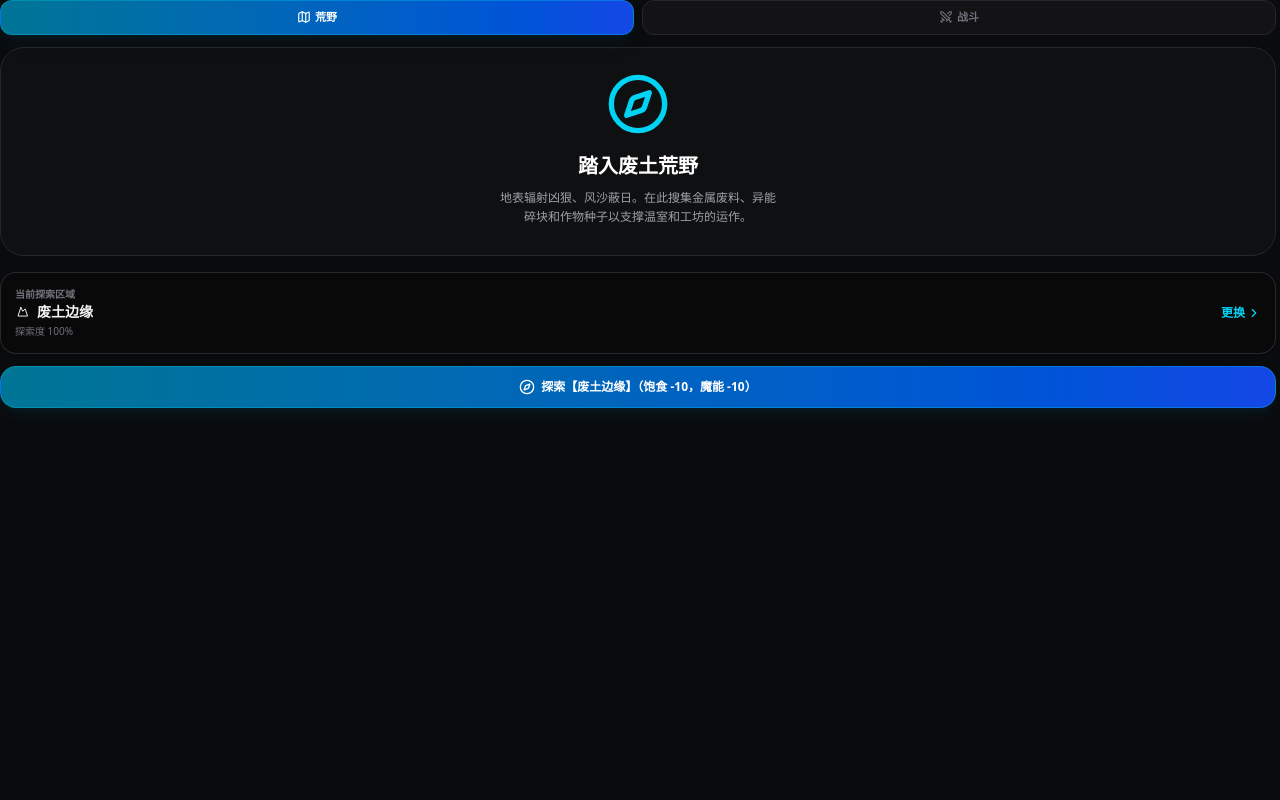
Test: WildernessTab Component › switches to combat mode and starts an auto battle in the first zone
//  切换到战斗模式
Click the button "战斗" at (959, 17), box x1=642 y1=0 x2=1276 y2=34
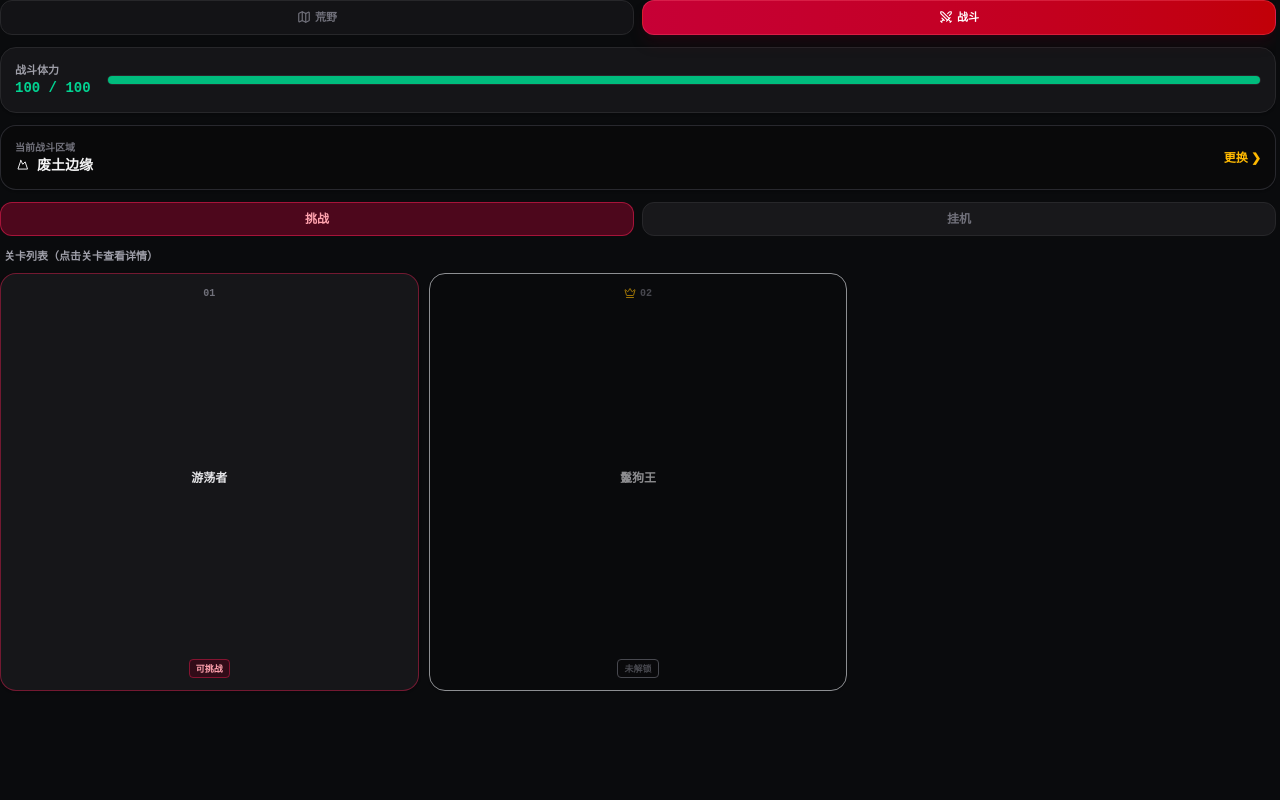
Expected: the text "废土边缘" is shown, x1=15 y1=155 x2=93 y2=175
Expected: the text "战斗体力" is shown, x1=15 y1=62 x2=59 y2=76
Click the element with test id "level-card-wasteland_entrance_1" at (209, 482), box x1=0 y1=272 x2=419 y2=691
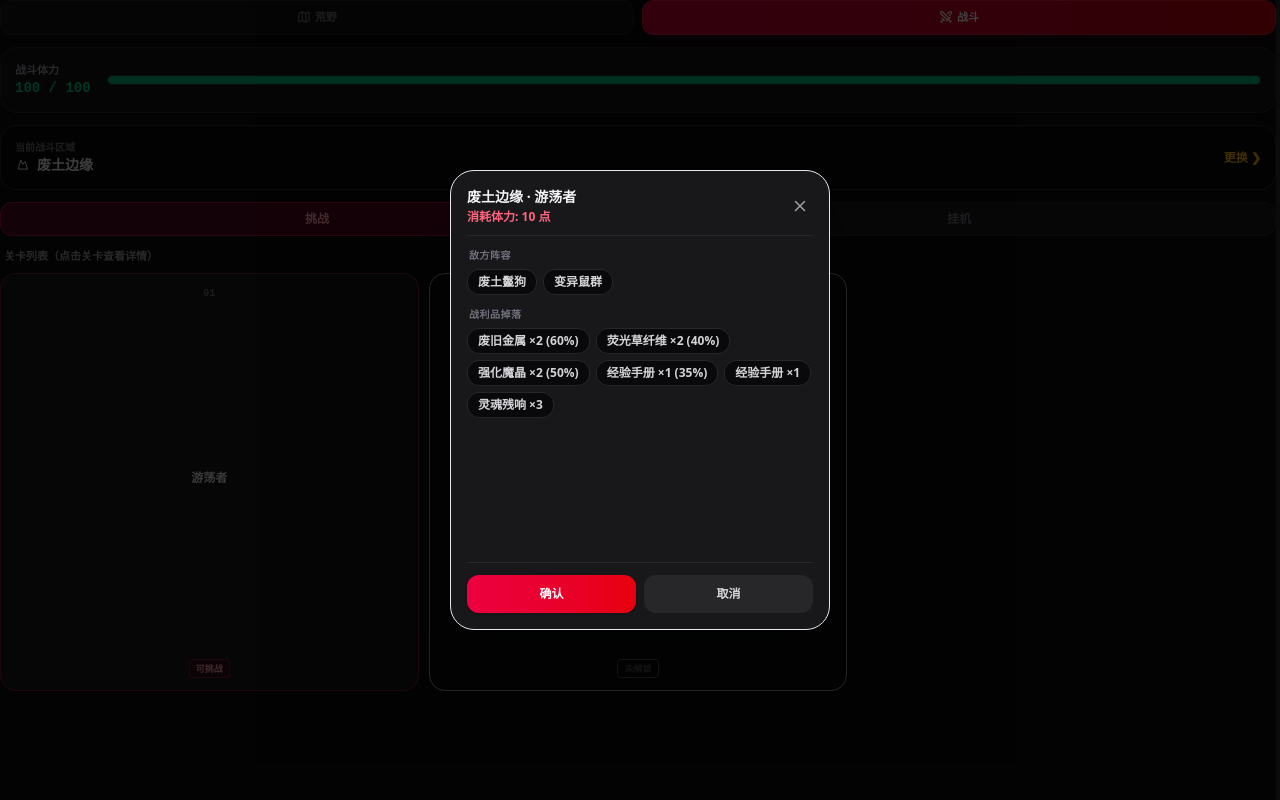
Expected: the element with test id "level-detail-modal" is shown, x1=450 y1=170 x2=830 y2=630
// 点击【确认】开战 → 打开专属全屏战斗模态 BattleModal
Click the button with test id "level-detail-confirm-btn" at (552, 594), box x1=467 y1=575 x2=636 y2=613
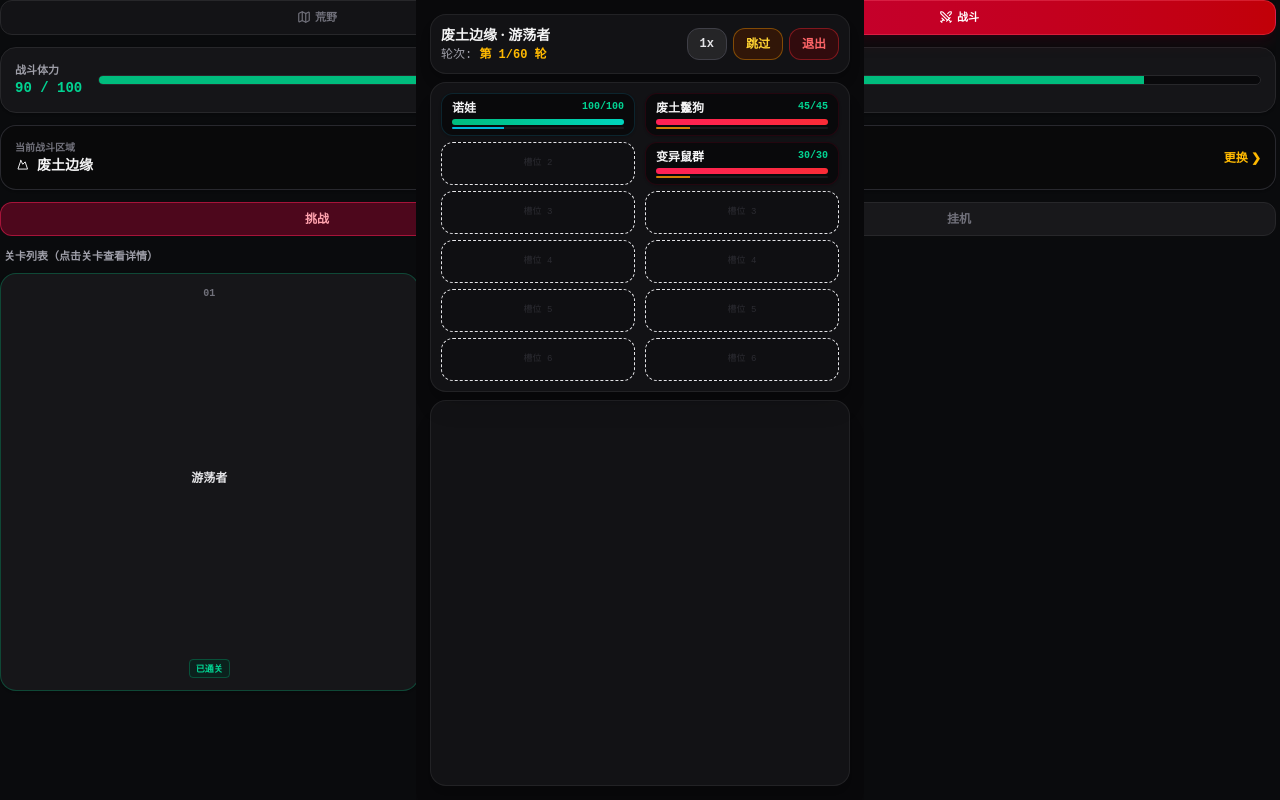
Expected: the element with test id "dedicated-battle-modal" is shown, x1=416 y1=0 x2=864 y2=799
// 跳过直达结算并验证战果与体力扣减
Click the button with test id "skip-battle-btn" at (758, 44), box x1=733 y1=28 x2=783 y2=60
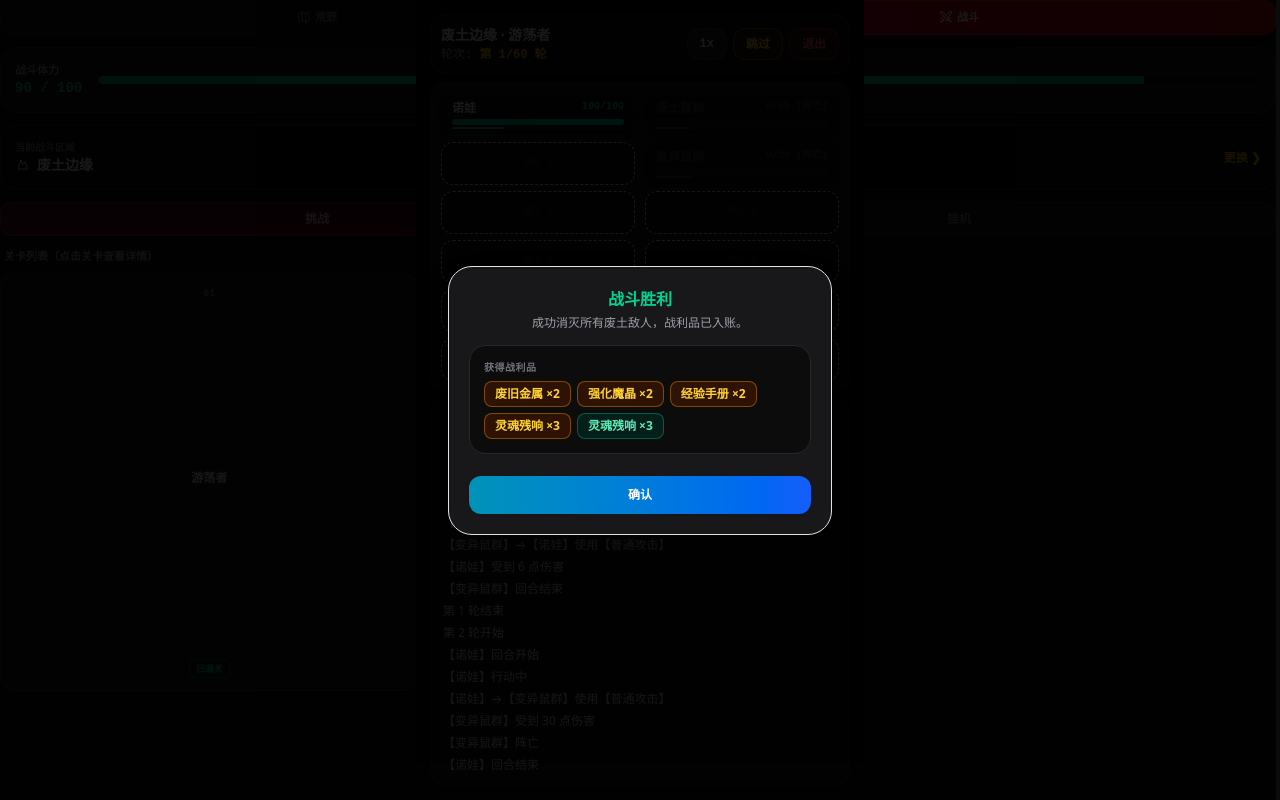
Expected: the text "战斗胜利" is shown, x1=608 y1=288 x2=672 y2=310
